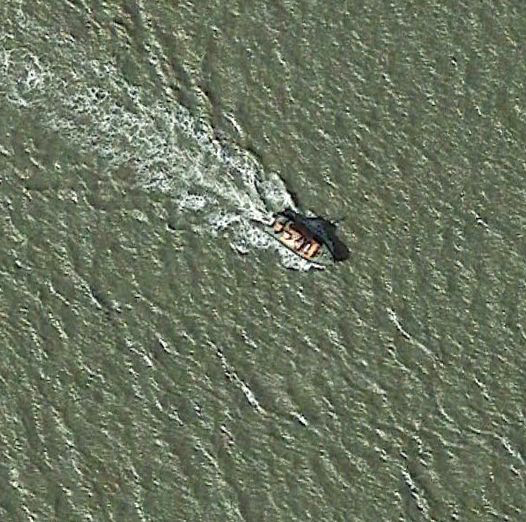boat: (258, 211, 339, 272)
